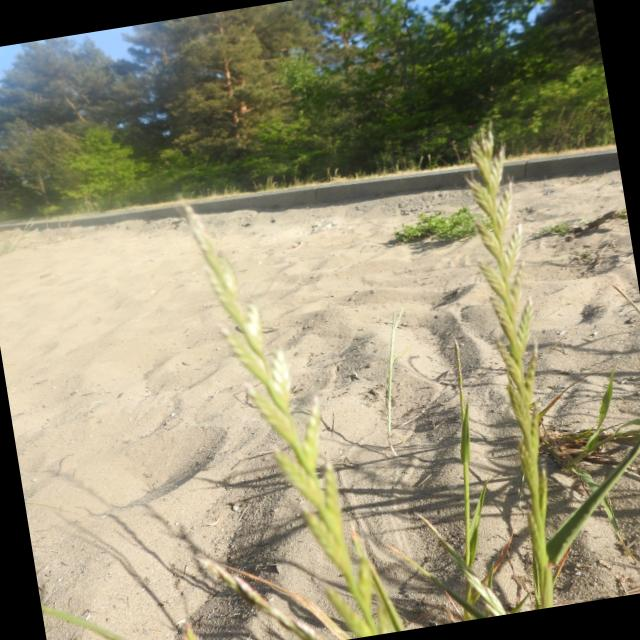Lolium: (173, 176, 393, 640), (424, 117, 612, 616)
